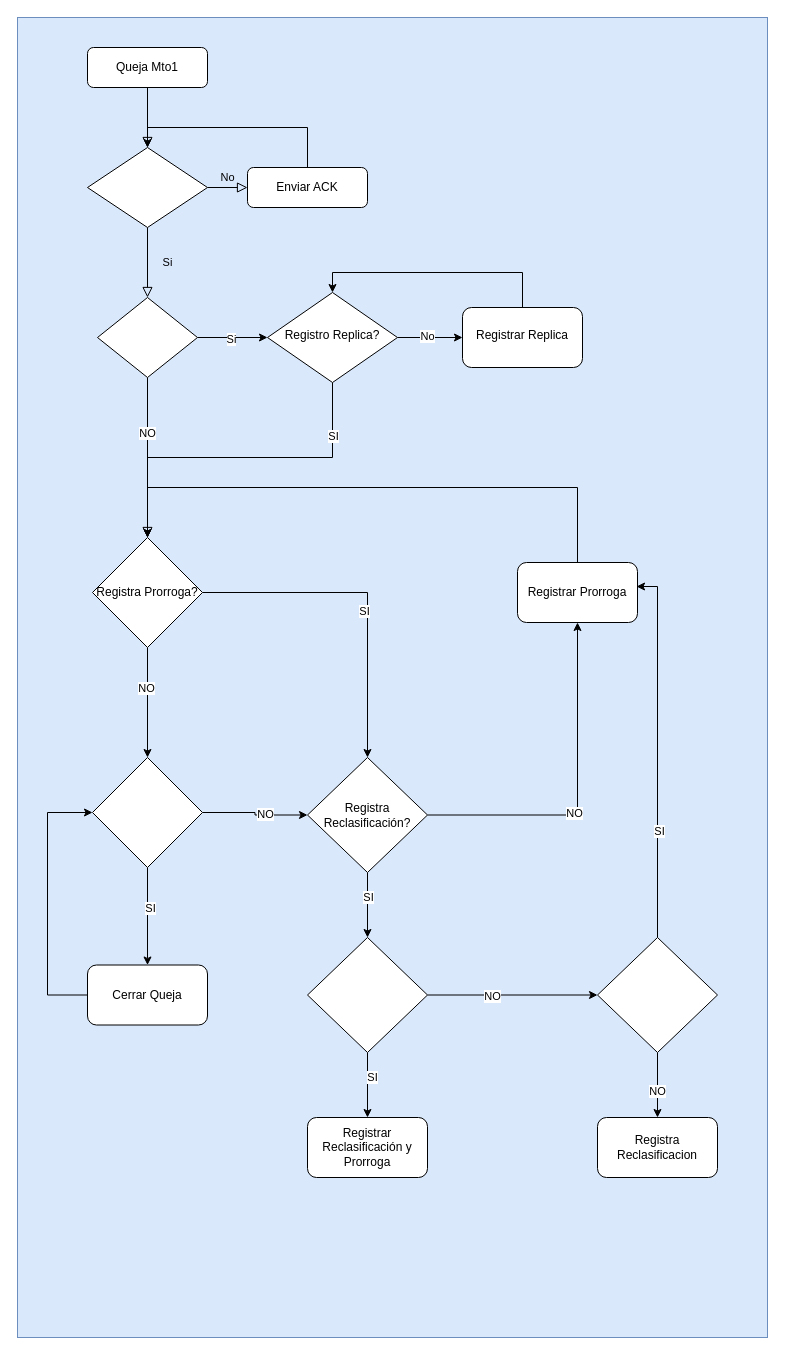
The diagram is 785 pixels wide and 1355 high, and some of its shapes have lost their labels. The centre of each missing label's shape, as x and y in pixels:
Cerrar Queja?: point 147,812
Enviar Juntos?: point 367,994
Es Replica?: point 147,337
Pendiente Prorroga?: point 657,994
Tiene ACK: point 147,187
